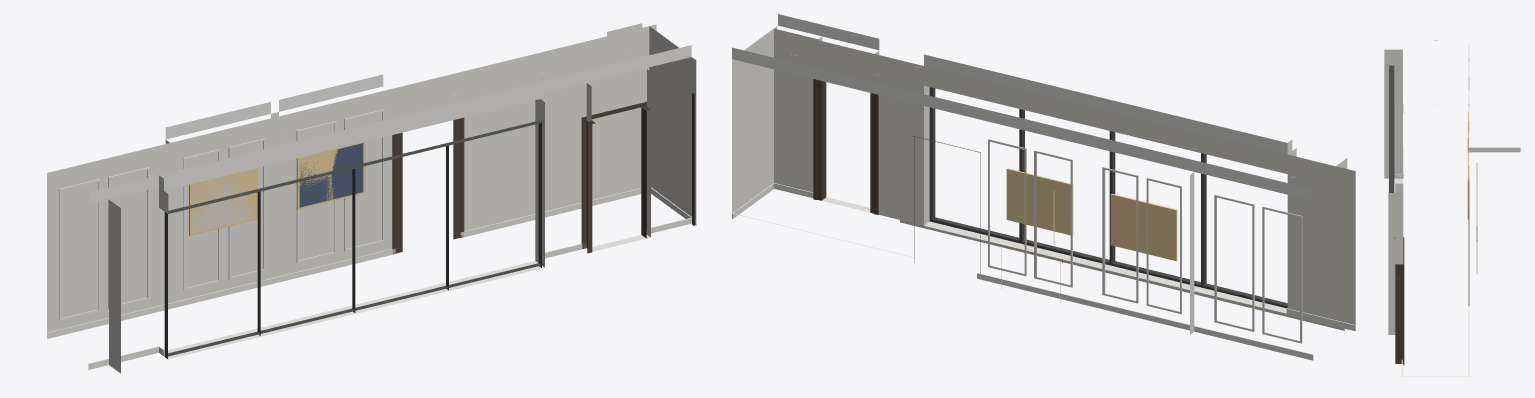
The model's file is CORR.glb.
The picture shows the model from 3 angles, left to right: view 1: azimuth 30°, elevation 25°; view 2: azimuth 150°, elevation 25°; view 3: azimuth 270°, elevation 25°; orthographic projection. The views are drawn at different scales.
Visible parts, largest first — view 1: WEB_CORR; view 2: WEB_CORR; view 3: WEB_CORR.
Boxes of the visible parts, x1,y1,x2,y2 form: WEB_CORR: [47, 23, 696, 373]; WEB_CORR: [732, 14, 1355, 360]; WEB_CORR: [1384, 40, 1520, 376].
Size of the model in its own units: 10.8 by 3.2 by 2.68.
